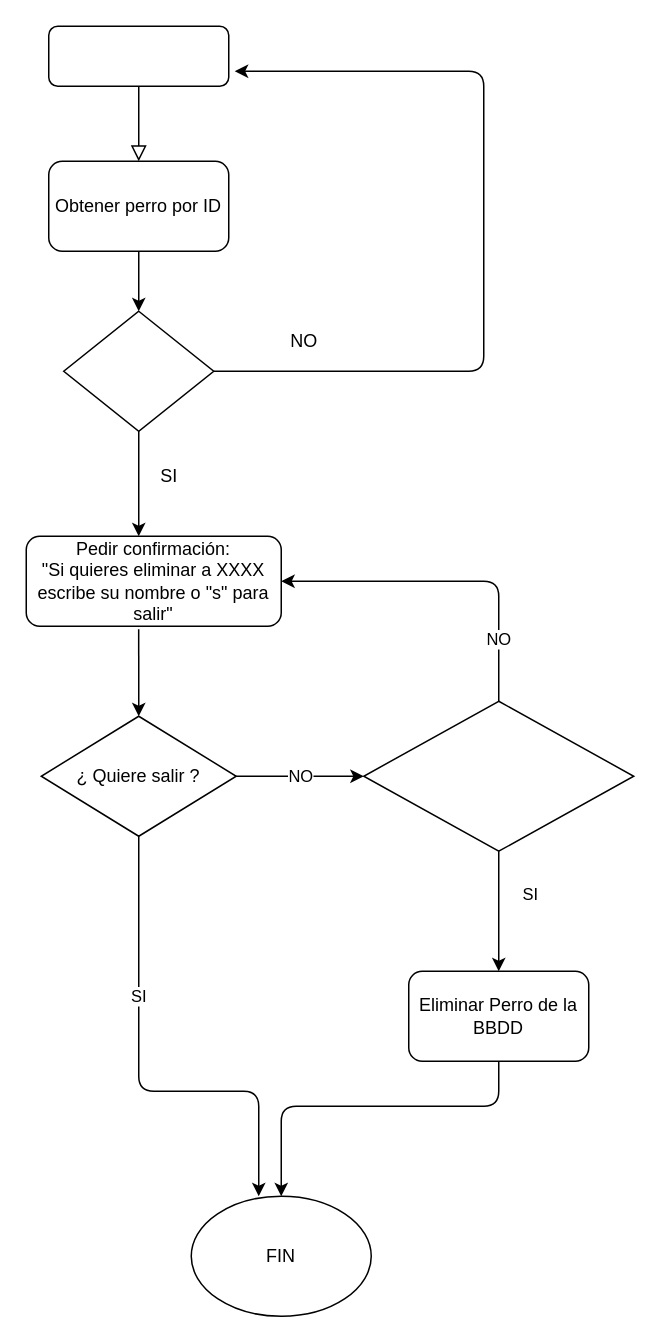
This 660x1343 diagram has some shape labels left out. Here are the shapes that lost their labels. From the top down, the centre of each, then its label:
At point (138, 55): "Preguntar el ID para eliminar".
At point (138, 370): "Existe Perro?".
At point (498, 775): "¿ Ha escrito bien el nombre del perro a Eliminar?".
